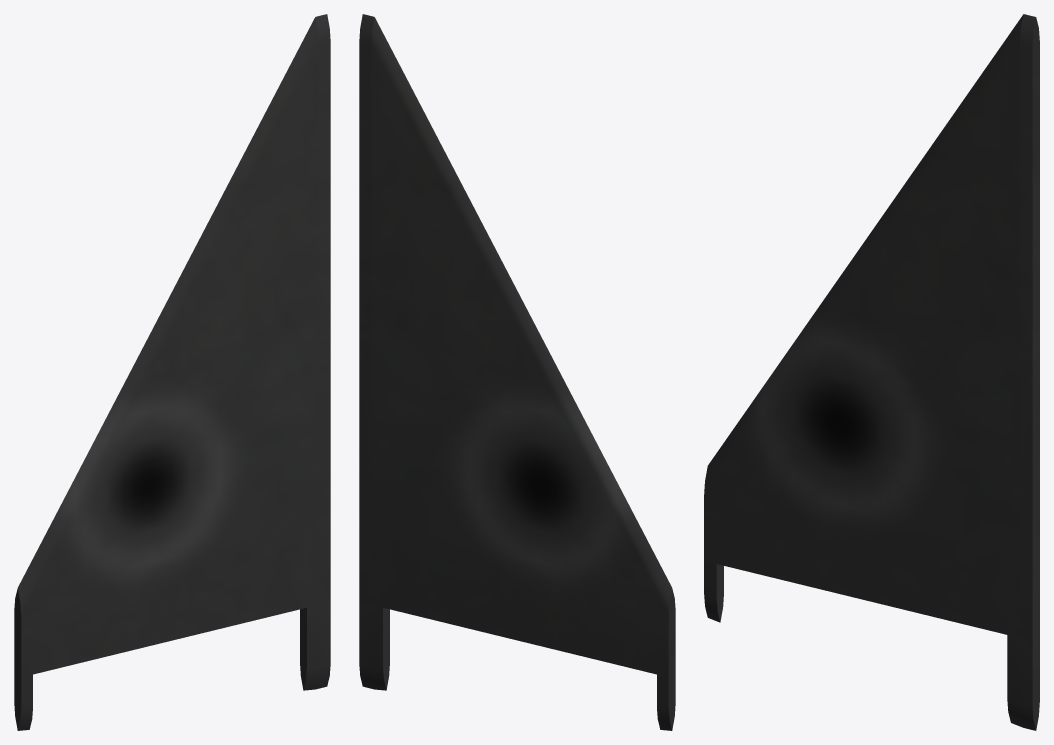
The model's file is blue_steel_winglet_srf_3.obj.
The picture shows the model from 3 angles, left to right: view 1: azimuth 30°, elevation 25°; view 2: azimuth 150°, elevation 25°; view 3: azimuth 330°, elevation 25°; orthographic projection. The views are drawn at different scales.
Visible parts, largest first — view 1: mesh2; view 2: mesh2; view 3: mesh2.
Boxes of the visible parts, x1=… form: mesh2: x1=14, y1=14, x2=330, y2=730; mesh2: x1=359, y1=14, x2=675, y2=730; mesh2: x1=704, y1=14, x2=1039, y2=730.
Bounding box in the file's own units: 1.3 × 2.7 × 0.05.
